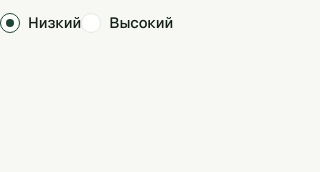
Test: Radio › в группе одновременно выбран только один вариант
The width and height of the screenshot is (320, 172).
Expected: the radio button labelled "Низкий" is checked, [0,12,81,34]
Step 1. Click the radio button labelled "Высокий" → {"x": 127, "y": 23}, box [81,12,173,34]
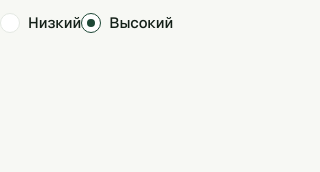
Now the radio button labelled "Высокий" is checked, box [81,12,173,34]
Now the radio button labelled "Низкий" is not checked, box [0,12,81,34]
